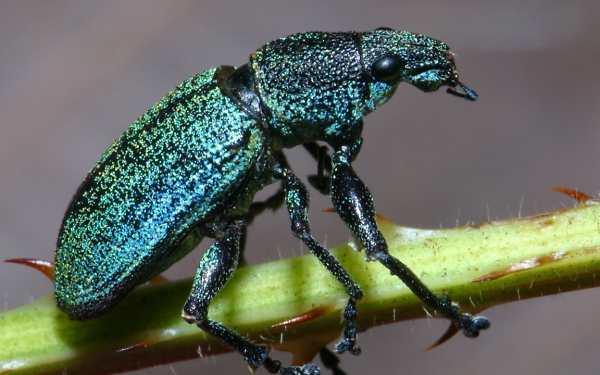dolgonosik: (54, 25, 489, 375)
